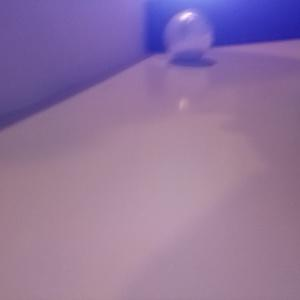alive_ball: (163, 9, 213, 59)
